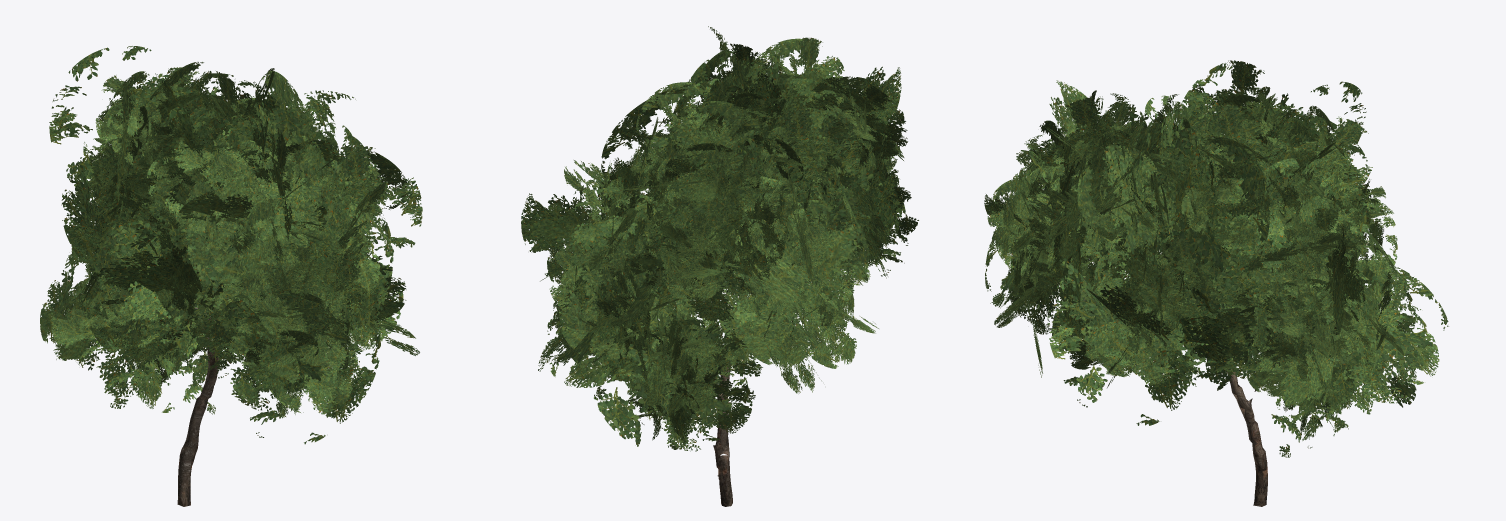
Rendered from las_drzewko.glb.
The picture shows the model from 3 angles, left to right: view 1: azimuth 30°, elevation 25°; view 2: azimuth 150°, elevation 25°; view 3: azimuth 270°, elevation 25°; orthographic projection. The views are drawn at different scales.
Visible parts, largest first — view 1: liscie_2, liscie_1, liscie_0, pien; view 2: liscie_1, liscie_2, liscie_0, pien; view 3: liscie_2, liscie_1, liscie_0, pien.
Part boxes in pixels (x1,y1,x2,y2): liscie_2: [49, 46, 422, 444]; liscie_1: [40, 62, 403, 418]; liscie_0: [75, 79, 387, 411]; pien: [177, 298, 228, 506]; liscie_1: [521, 38, 918, 451]; liscie_2: [521, 26, 908, 449]; liscie_0: [540, 64, 899, 429]; pien: [675, 292, 732, 506]; liscie_2: [985, 60, 1448, 457]; liscie_1: [994, 90, 1415, 439]; liscie_0: [984, 87, 1397, 420]; pien: [1221, 355, 1267, 506].
Bounding box in the file's own units: 4.59 × 5.75 × 5.87.
2 materials, 2 textured.
